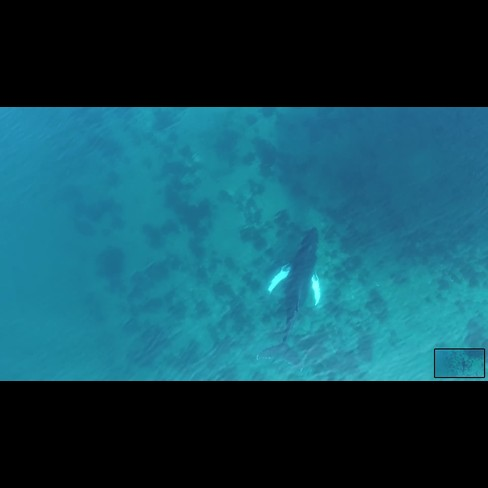hump: (255, 222, 330, 378)
